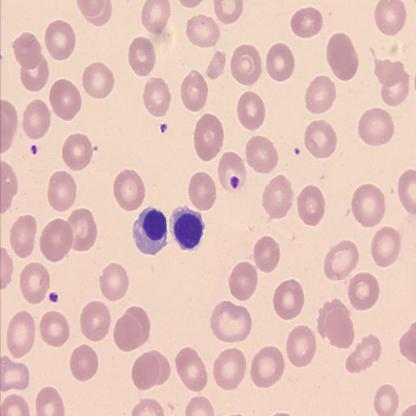NRC: (130, 204, 206, 258)
